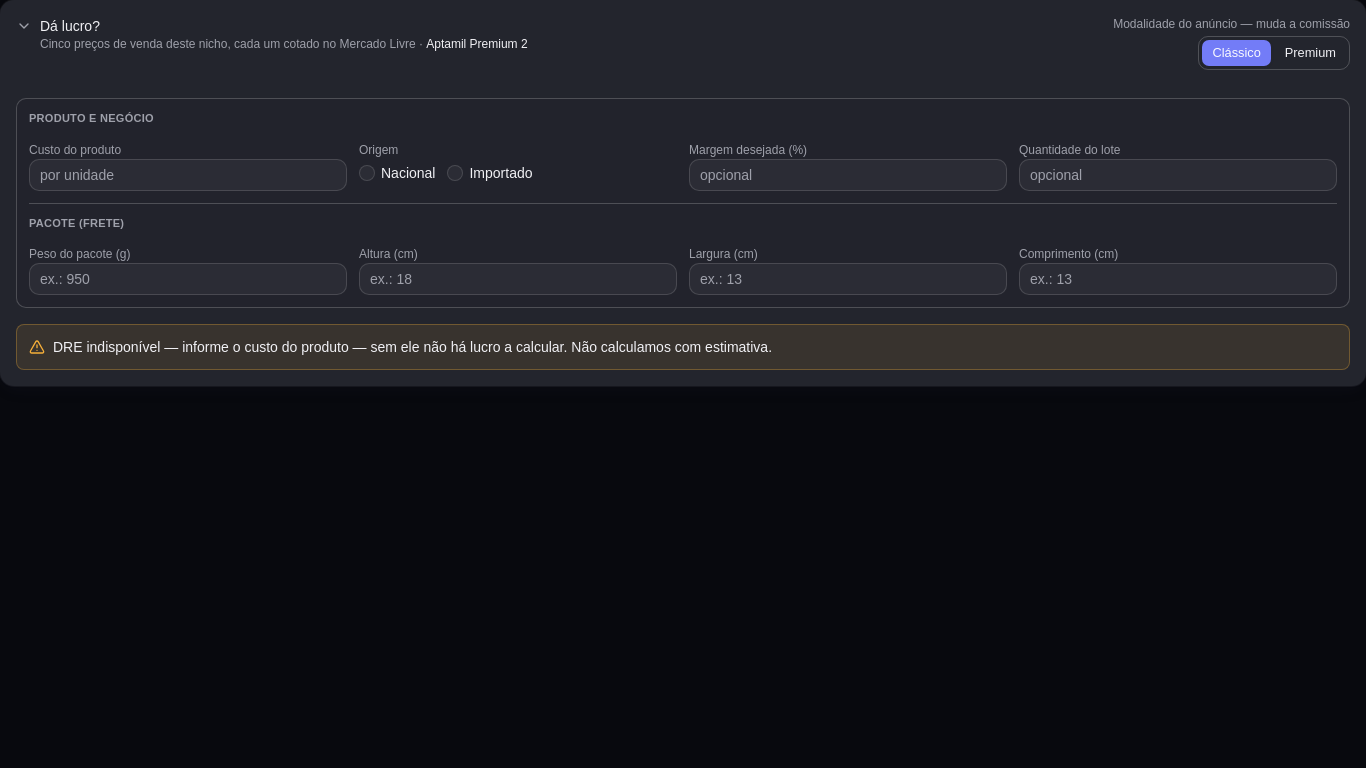
Test: SonarDre — Clássico × Premium › trocar para Premium muda a comissão da tabela inteira
The image size is (1366, 768).
Type "42" into the field labelled "Custo do produto" at (188,175), box top-left (29, 159), bottom-right (347, 191)
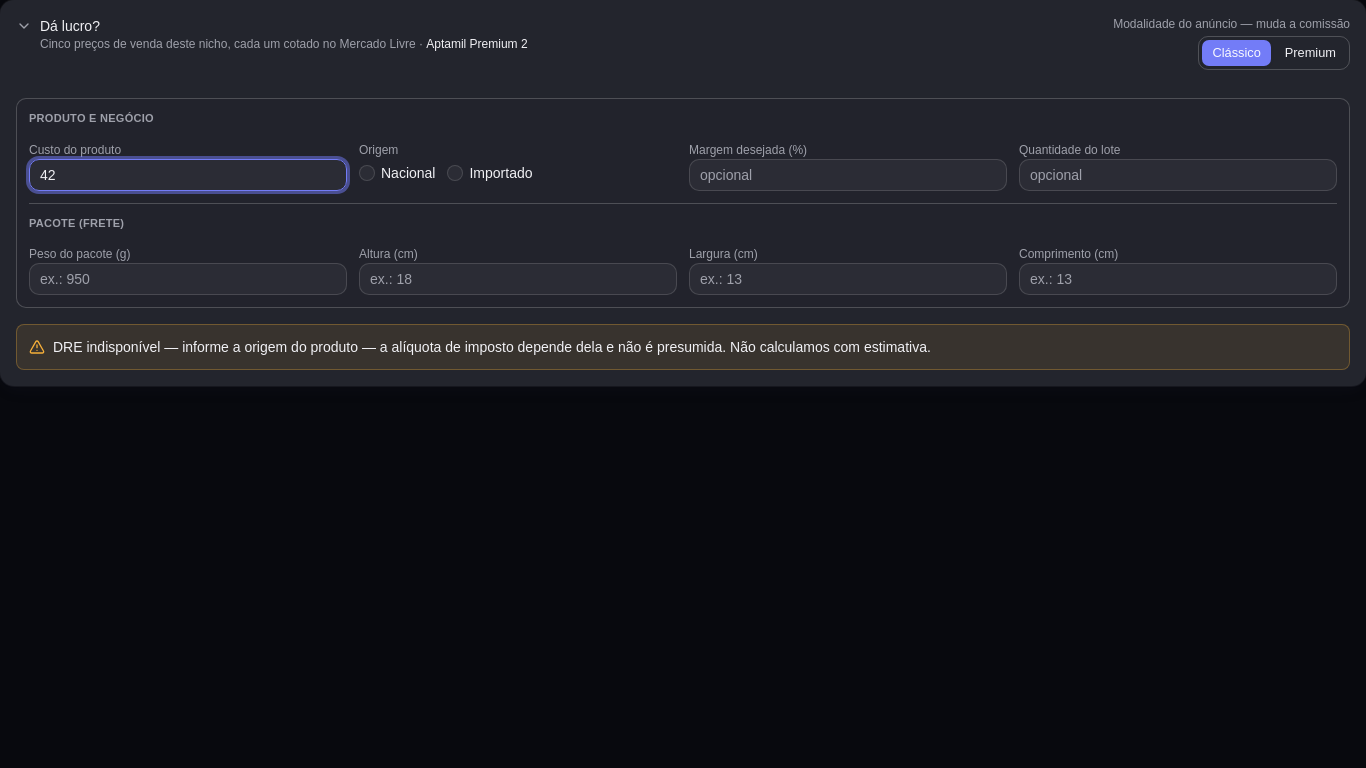
Click the radio button named "Nacional" next to "Nacional" at (367,173), box top-left (359, 165), bottom-right (375, 181)
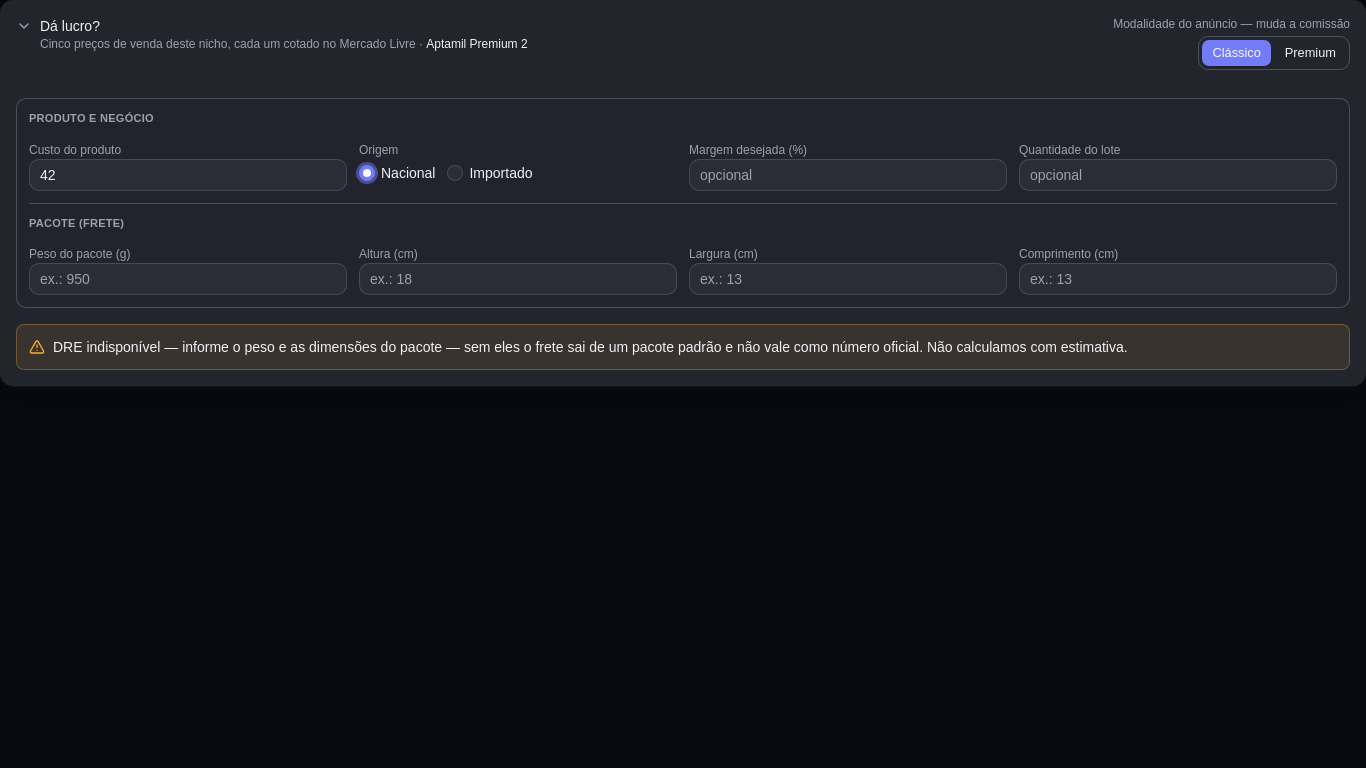
Type "950" into the field labelled "Peso do pacote (g)" at (188,279), box top-left (29, 263), bottom-right (347, 295)
Type "18" into the field labelled "Altura (cm)" at (518,279), box top-left (359, 263), bottom-right (677, 295)
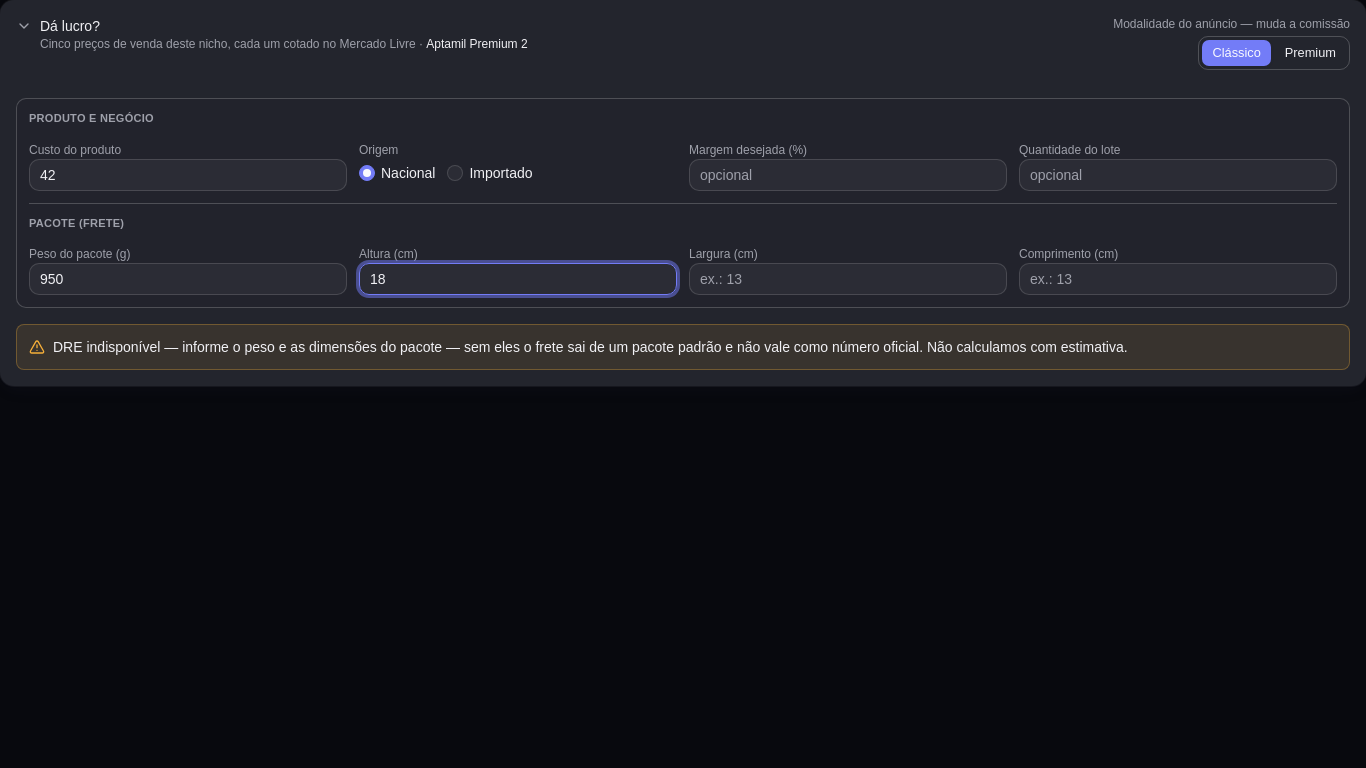
Type "13" into the field labelled "Largura (cm)" at (848,279), box top-left (689, 263), bottom-right (1007, 295)
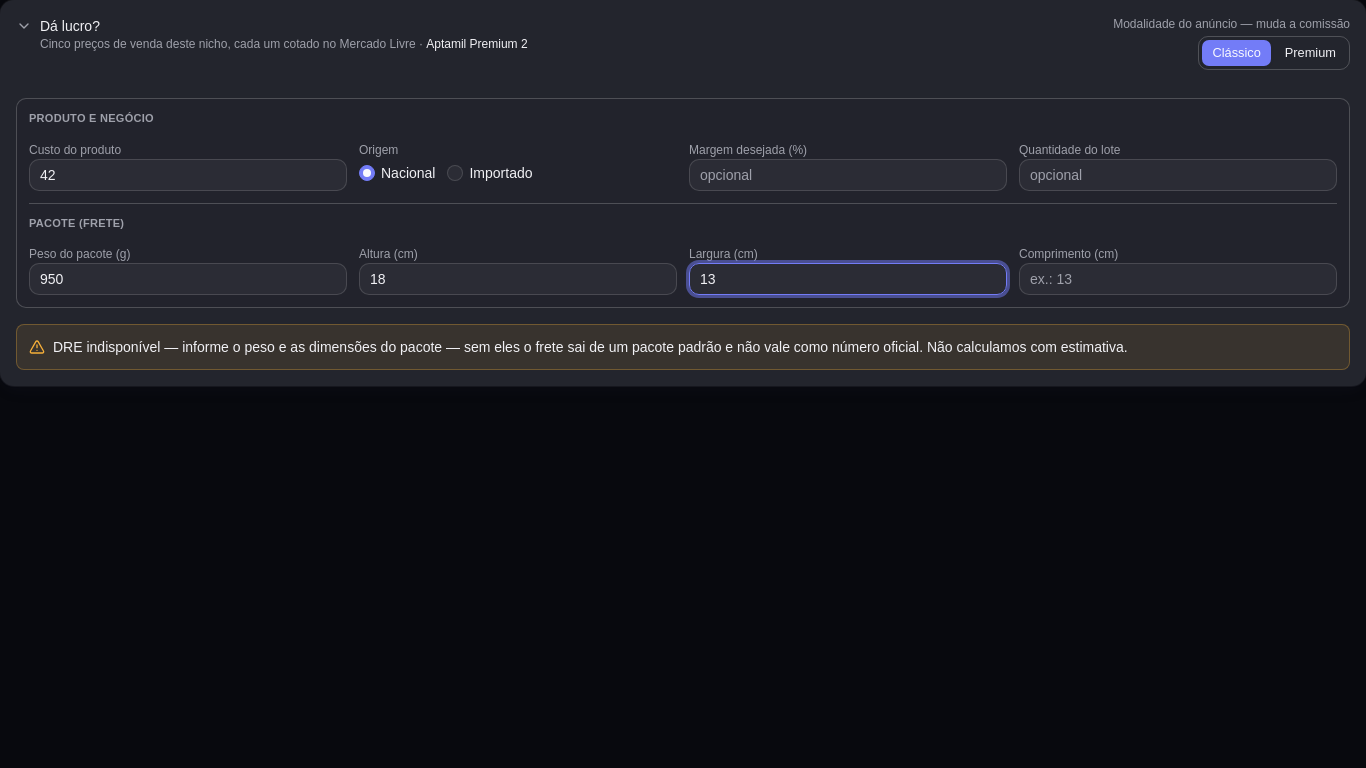
Type "13" into the field labelled "Comprimento (cm)" at (1178,279), box top-left (1019, 263), bottom-right (1337, 295)
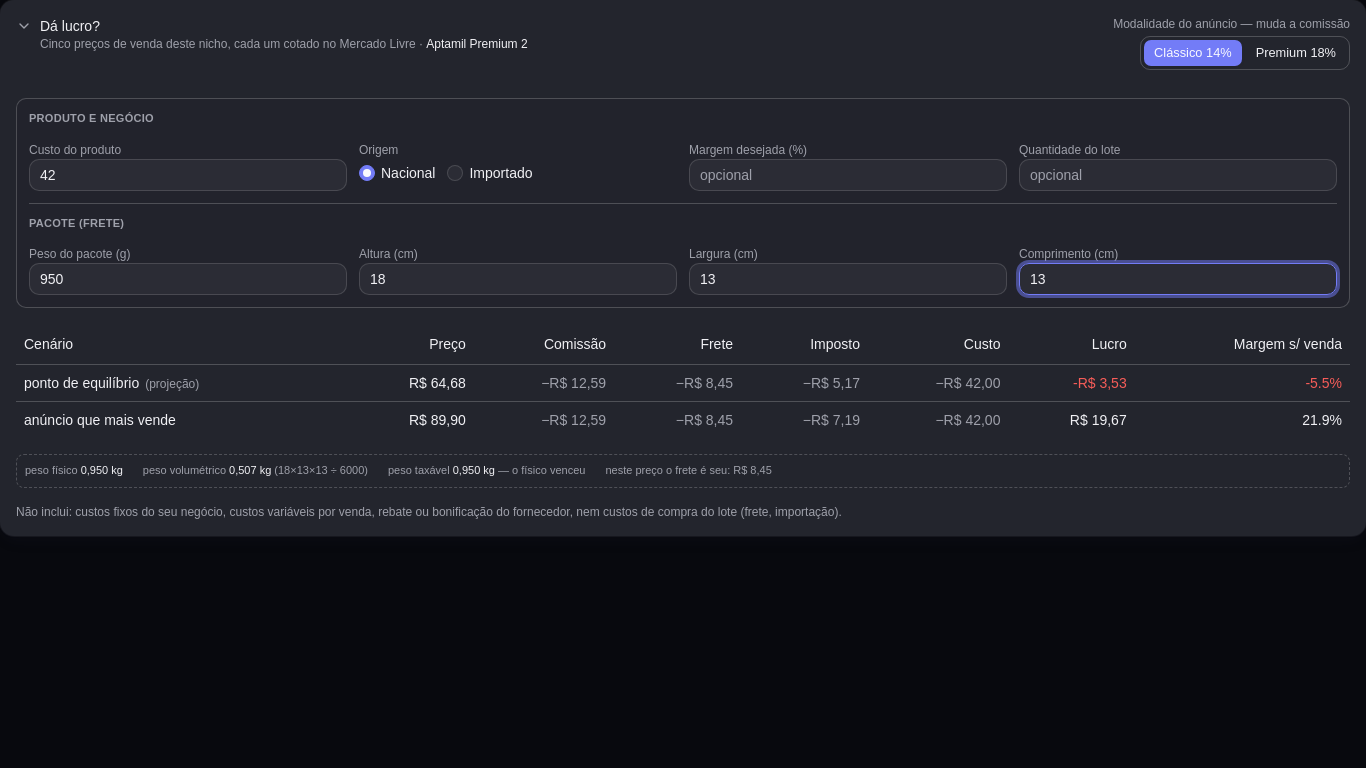
Now the text "−R$ 12,59" in the row of "ponto de equilíbrio" is shown, box top-left (549, 375), bottom-right (606, 391)
Click the button "Premium 18%" at (1296,53), box top-left (1245, 39), bottom-right (1347, 67)
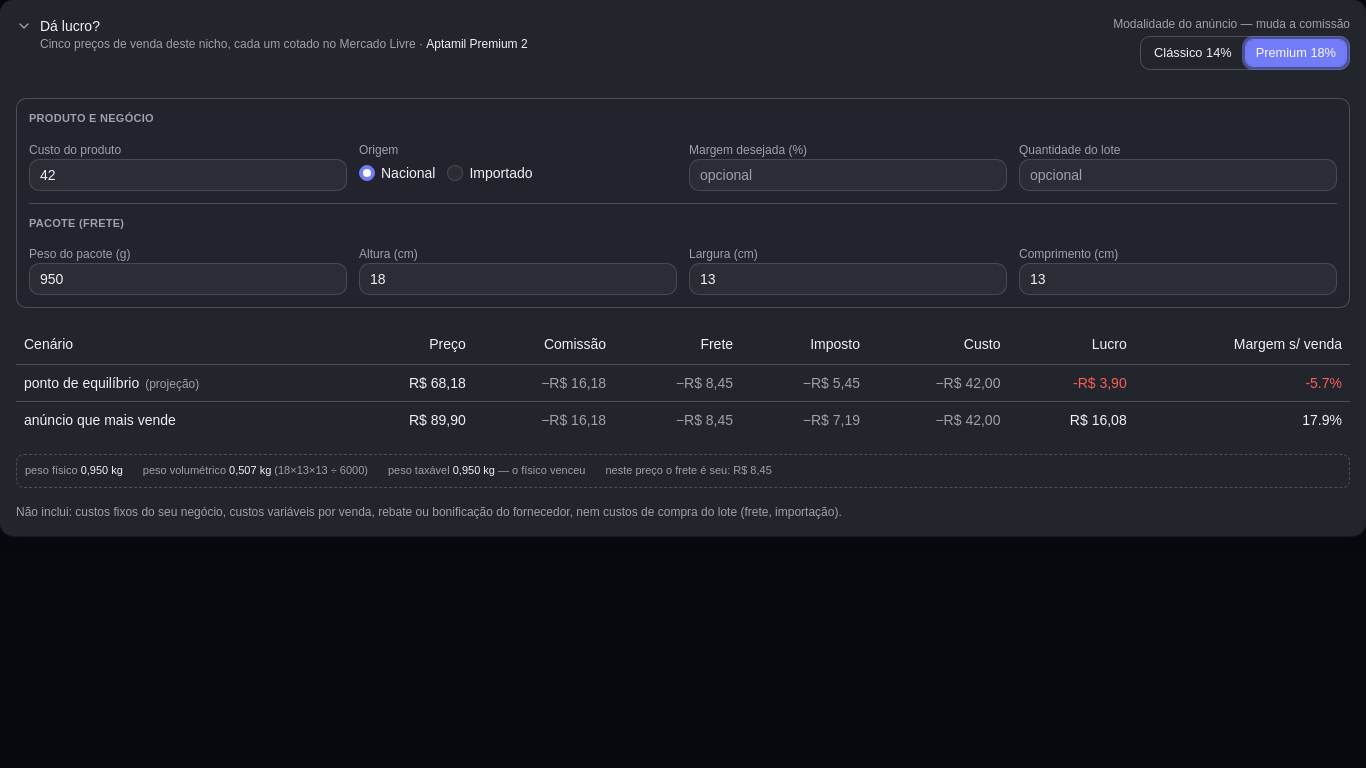
Now the text "−R$ 16,18" in the row of "ponto de equilíbrio" is shown, box top-left (549, 375), bottom-right (606, 391)
Now the text "−R$ 12,59" is gone
